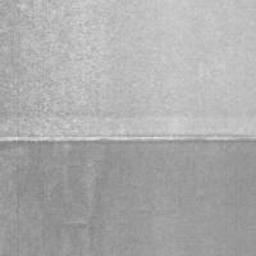Welding line: (0, 136, 256, 142)
